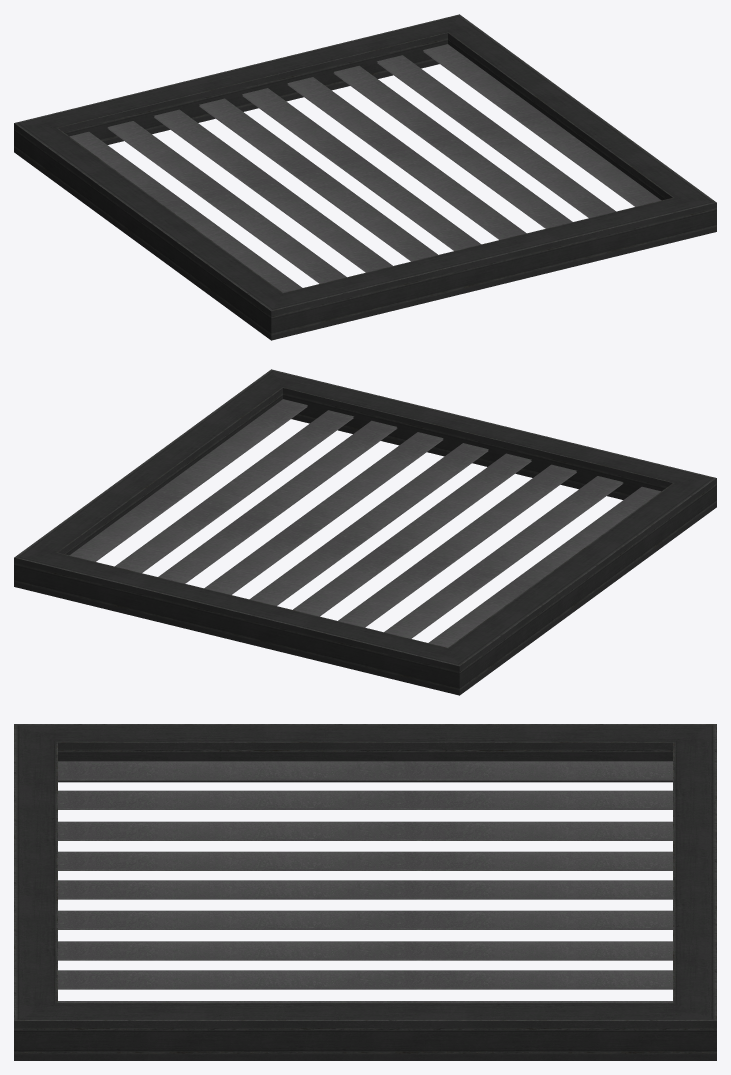
File: p6_blackout_floor_grating_lod1.glb
The picture shows the model from 3 angles, top to bottom: view 1: azimuth 30°, elevation 25°; view 2: azimuth 150°, elevation 25°; view 3: azimuth 270°, elevation 25°; orthographic projection. The views are drawn at different scales.
Parts seen in each view (by area): view 1: surf0; view 2: surf0; view 3: surf0.
Part boxes in pixels (x1,y1,x2,y2): surf0: [14, 14, 716, 340]; surf0: [14, 369, 716, 695]; surf0: [14, 724, 716, 1060].
Size of the model in its own units: 64 by 4.01 by 64.
